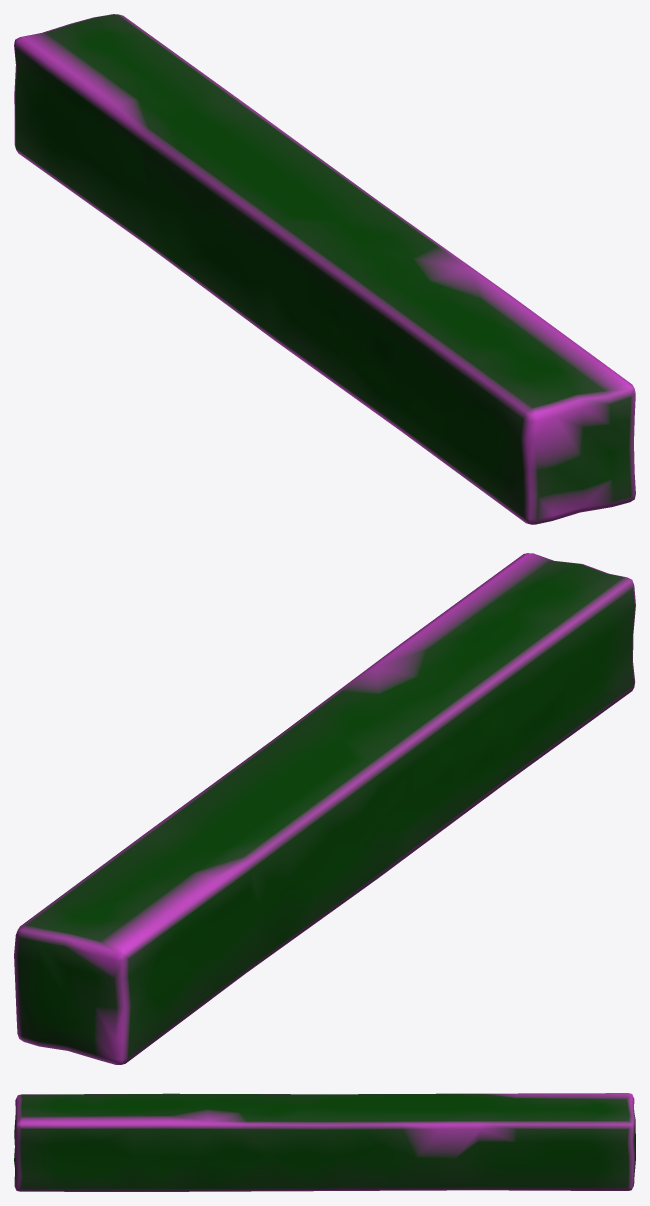
File: frame_200_01.fbx
The picture shows the model from 3 angles, top to bottom: view 1: azimuth 30°, elevation 25°; view 2: azimuth 150°, elevation 25°; view 3: azimuth 270°, elevation 25°; orthographic projection. The views are drawn at different scales.
Parts seen in each view (by area): view 1: frame_200_01; view 2: frame_200_01; view 3: frame_200_01.
Boxes of the visible parts, box(x1,y1,x2,y2) form: frame_200_01: box(14, 14, 635, 524); frame_200_01: box(14, 553, 635, 1064); frame_200_01: box(14, 1093, 635, 1191).
Size of the model in its own units: 0.2579 by 0.2594 by 2.01.
